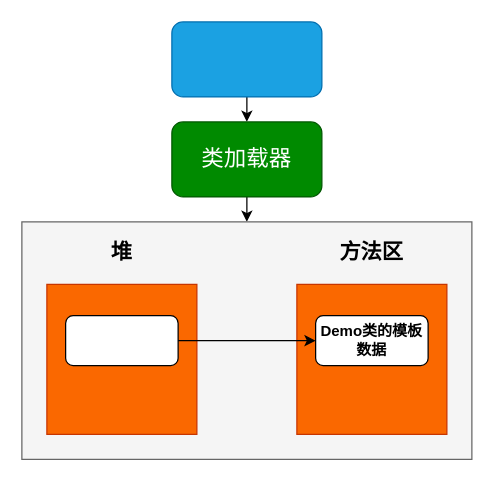
The diagram is 494 pixels wide and 481 high, and some of its shapes have lost their labels. The shapes that lost their labels are listed below. From the top down, each one's centre as x and y in pixels, then its label:
At point (246, 59): "Demo.class".
At point (121, 340): "Demo类的Class对象".
